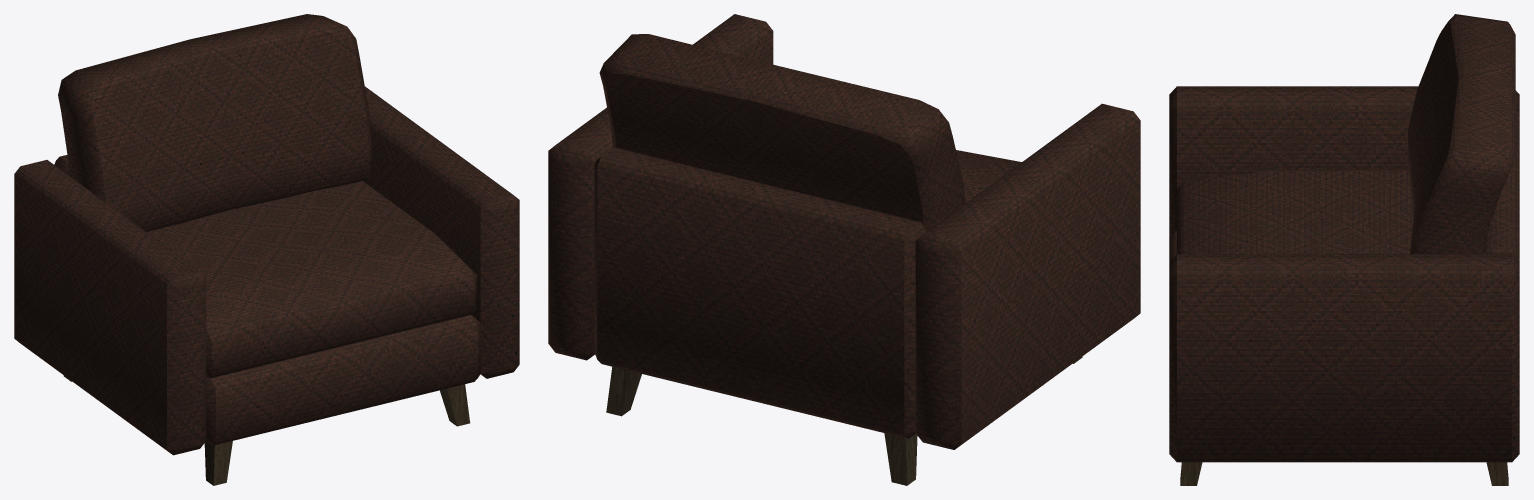
Rendered from armchair_2.glb.
3 views of the same model, side by side, from view 1: azimuth 30°, elevation 25°; view 2: azimuth 150°, elevation 25°; view 3: azimuth 270°, elevation 25° (orthographic). The views are drawn at different scales.
Visible parts, largest first — view 1: armchair_2; view 2: armchair_2; view 3: armchair_2.
Boxes of the visible parts, bbox=[...] form: armchair_2: bbox=[14, 14, 519, 485]; armchair_2: bbox=[548, 14, 1140, 485]; armchair_2: bbox=[1169, 14, 1519, 485].
Bounding box in the file's own units: 1.26 × 1.07 × 0.99.
Materials: 2 (2 with a texture image).
